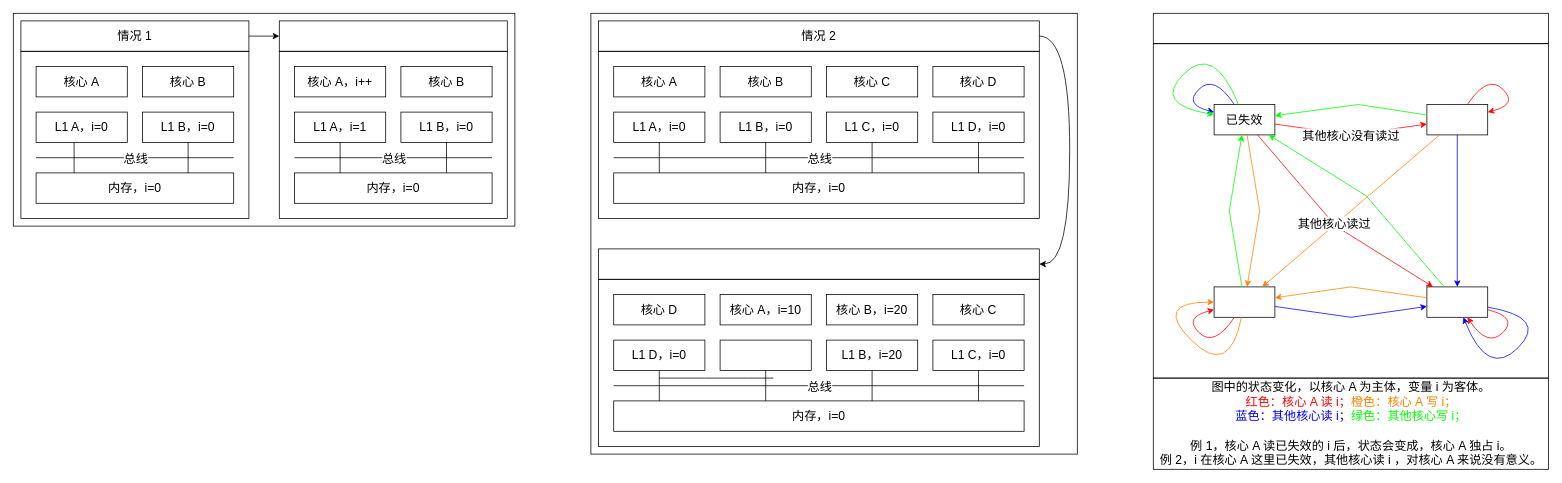
This 1562x483 diagram has some shape labels left out. The shapes that lost their labels are listed below. From the top down, each one's centre as x and y in pixels, then its label:
At [393,35]: "核心 B 不知道，i 已经发生变化。".
At [1350,28]: "不同状态在不通操作下的状态变化".
At [1457,119]: "独占".
At [818,263]: "情况 2， 核心 C 先收到 20，后收到 10。 而核心 D 先收到 10，后收到 20。".
At [1244,301]: "已修改".
At [1457,301]: "分享".
At [765,354]: "L1 A，i=10".
